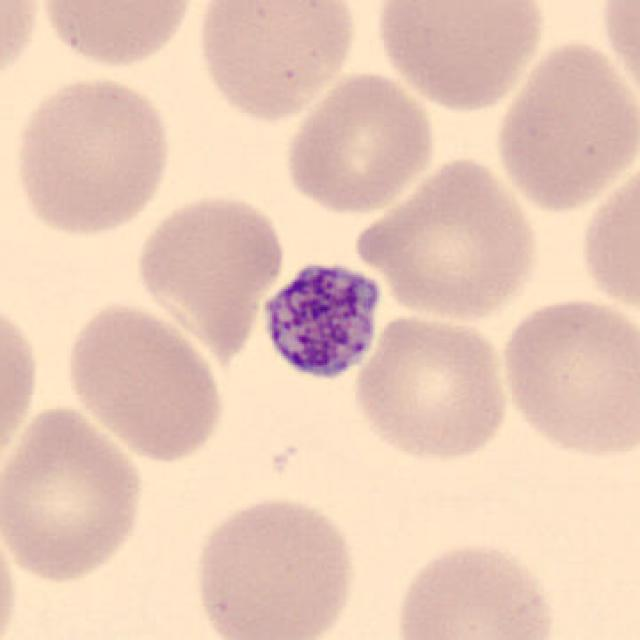Platelets: (255, 252, 390, 386)
RBC: (352, 153, 542, 324), (59, 296, 229, 464), (9, 70, 176, 240), (0, 400, 149, 587), (489, 34, 638, 215), (348, 308, 514, 466), (188, 490, 361, 640), (130, 187, 288, 351), (279, 67, 441, 217), (496, 292, 638, 463), (190, 0, 363, 125), (370, 0, 549, 115), (389, 536, 560, 640), (36, 0, 199, 71), (576, 155, 638, 326), (0, 289, 44, 488), (595, 0, 640, 113), (0, 0, 46, 99), (0, 504, 23, 638)
